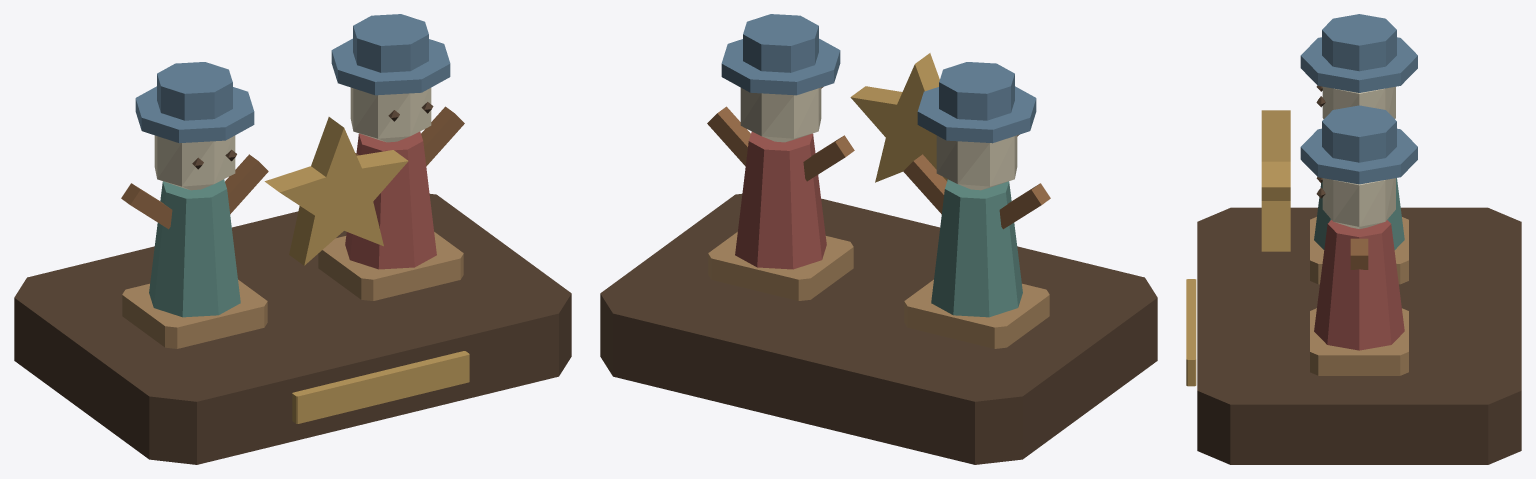
The model's file is deco_friend_keepsake.glb.
3 renders of one model, left to right at view 1: azimuth 30°, elevation 25°; view 2: azimuth 150°, elevation 25°; view 3: azimuth 270°, elevation 25°, orthographic. The views are drawn at different scales.
Visible parts, largest first — view 1: geometry; view 2: geometry; view 3: geometry.
Part boxes in pixels (x1,y1,x2,y2): geometry: (14, 14, 571, 464); geometry: (600, 14, 1157, 464); geometry: (1186, 14, 1521, 464).
Bounding box in the file's own units: 0.56 × 0.386 × 0.403.
